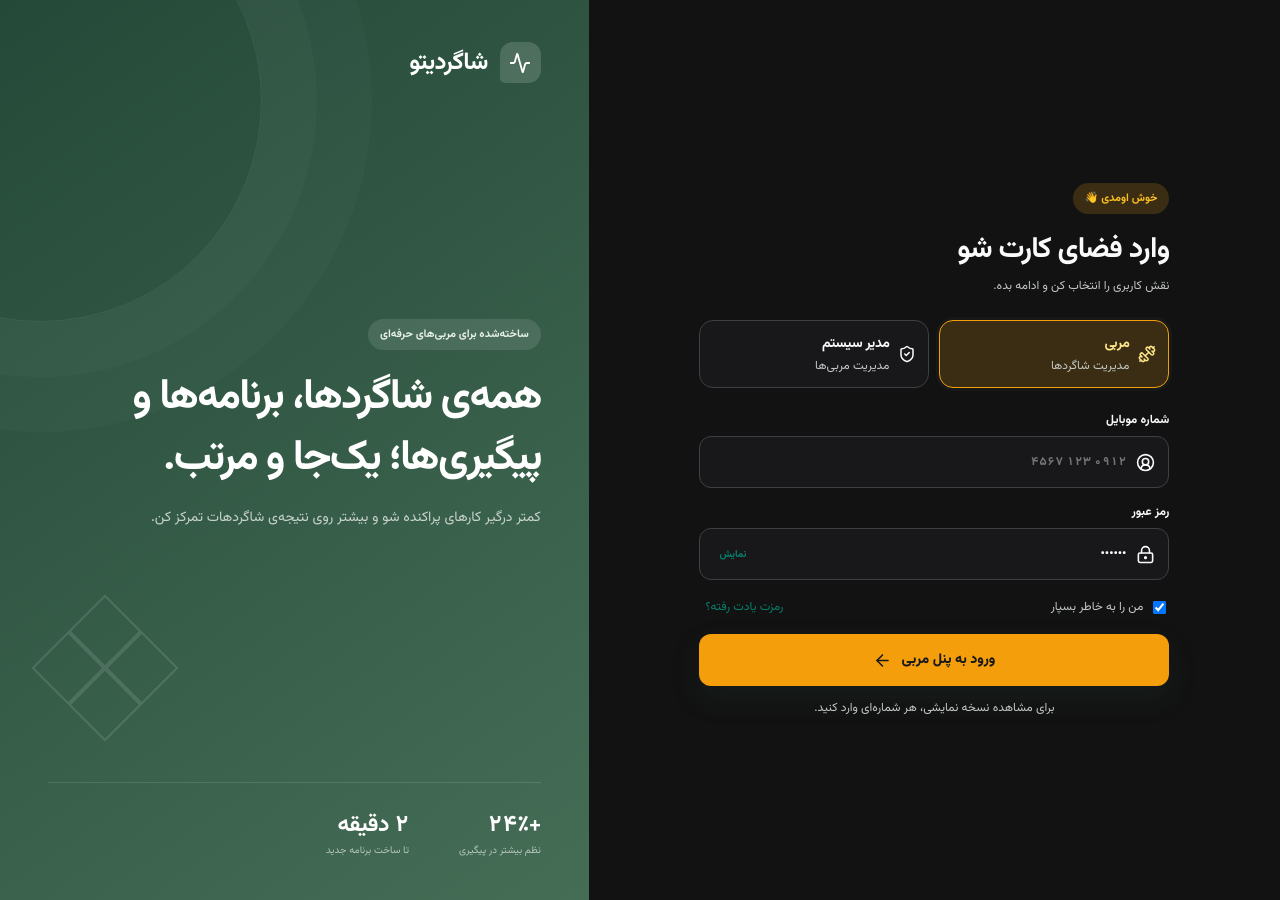
Test case: coach action dashboard › shows actionable students by default and records a quick follow-up
The width and height of the screenshot is (1280, 900).
Submit the form with class "login-card", box [699, 183, 1169, 717]
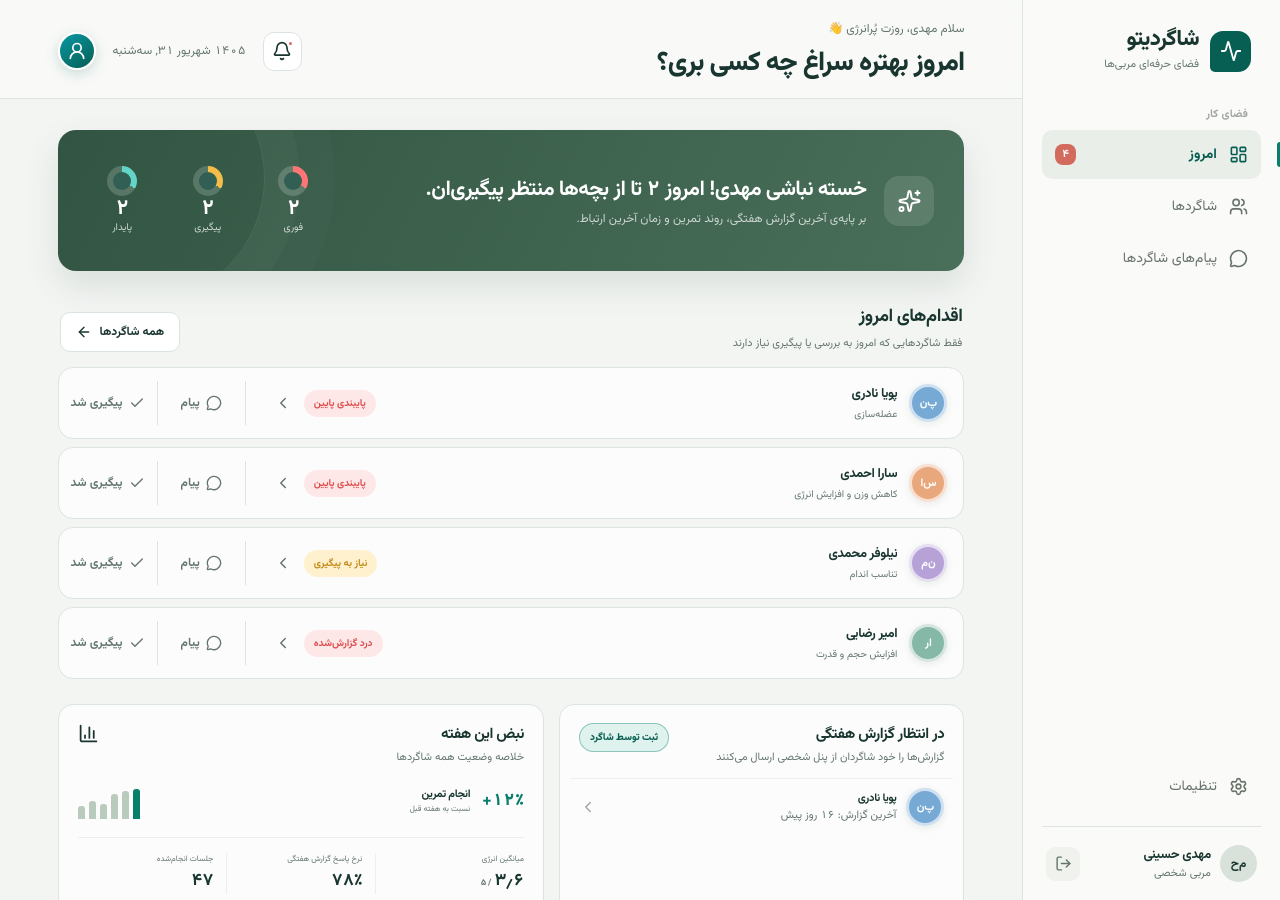
Now the element with class "attention-grid" shows "سارا احمدی", box [258, 448, 963, 518]
Click the 2nd button "پیگیری شد": (108, 483) [59, 461, 157, 505]
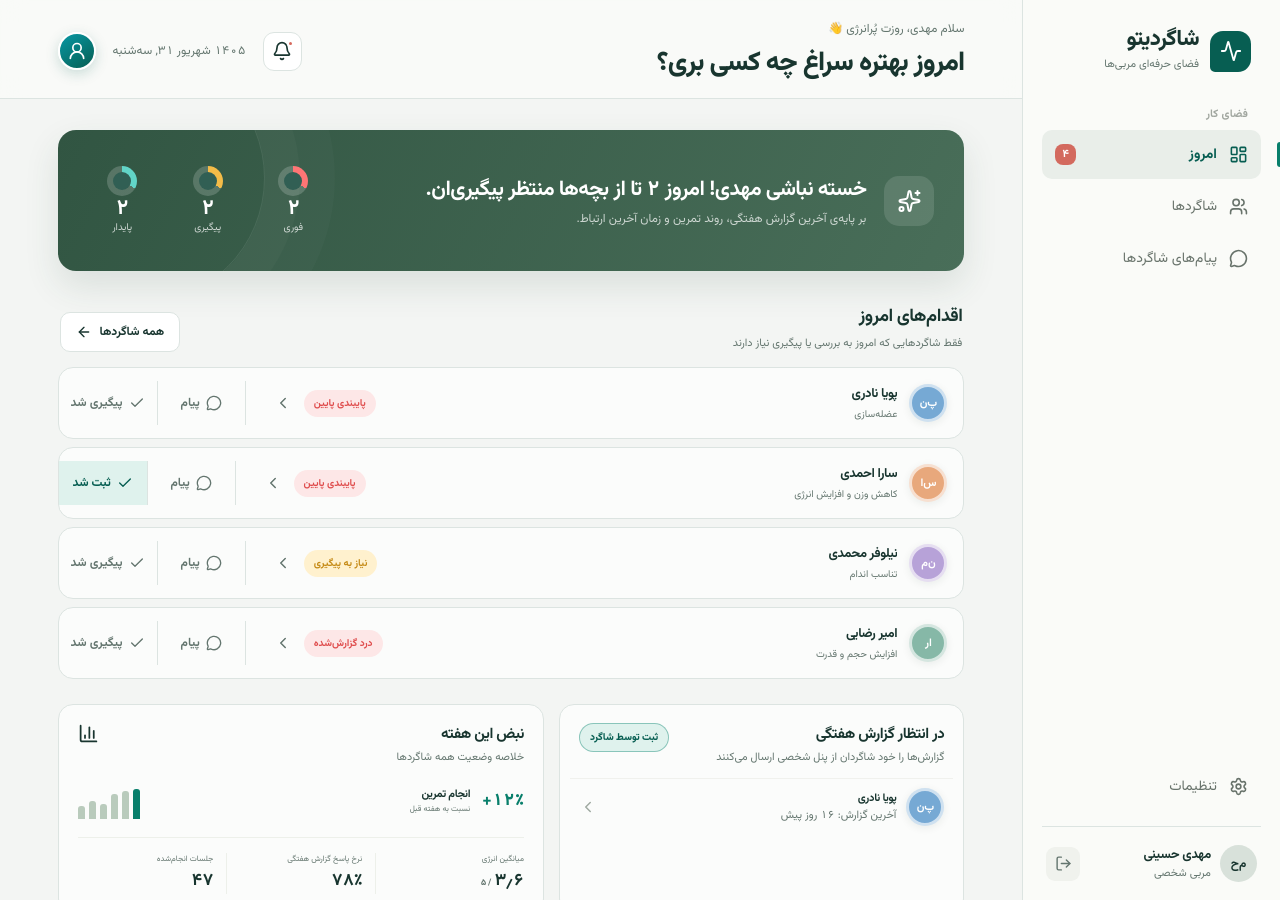
Now the element that starts with "س‌ا" shows "ثبت شد", box [59, 461, 147, 505]
